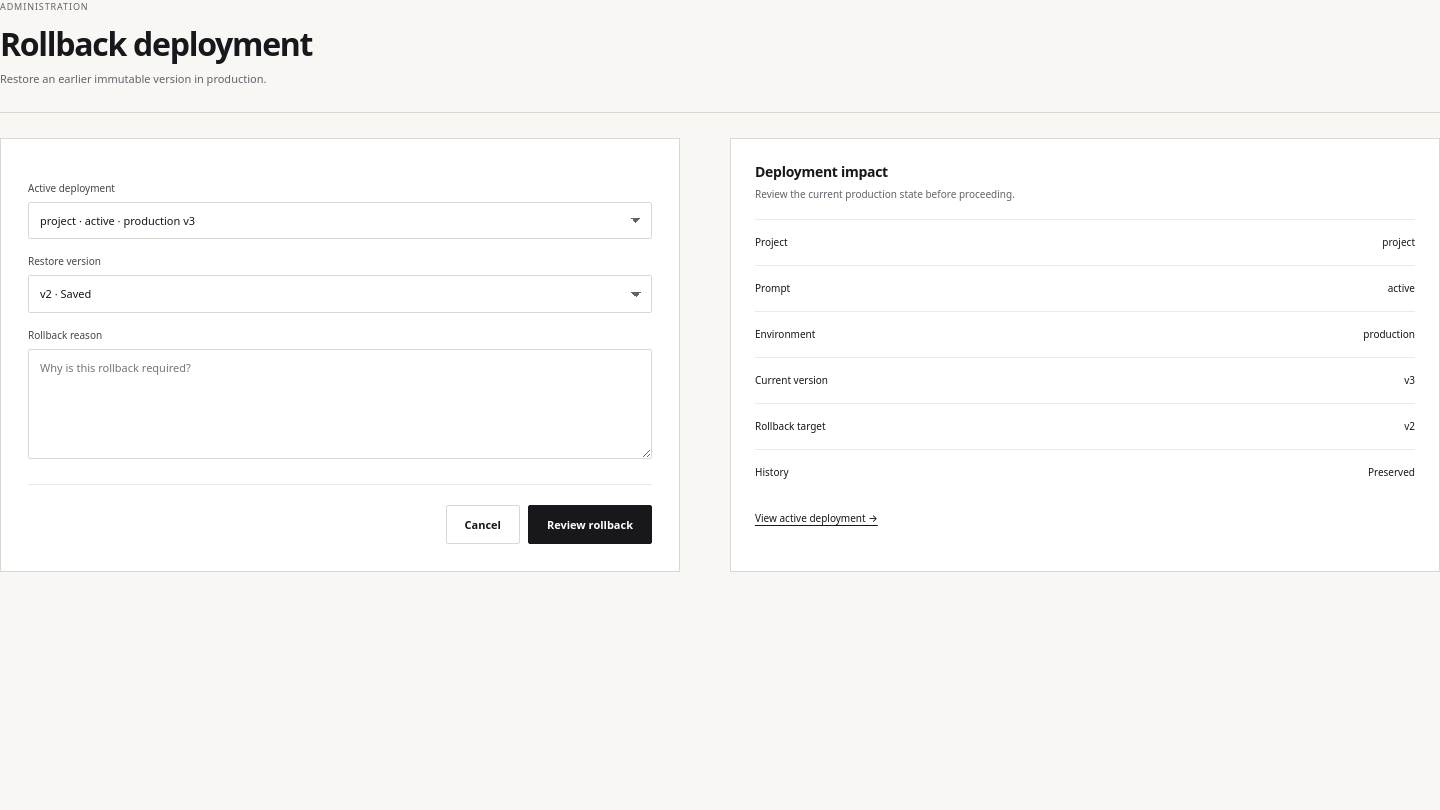
Test case: submits once and refreshes the currently active result after a successful rollback
Type "Restore stability" into the text box labelled "Rollback reason" at point(340, 404), box [28,349,652,459]
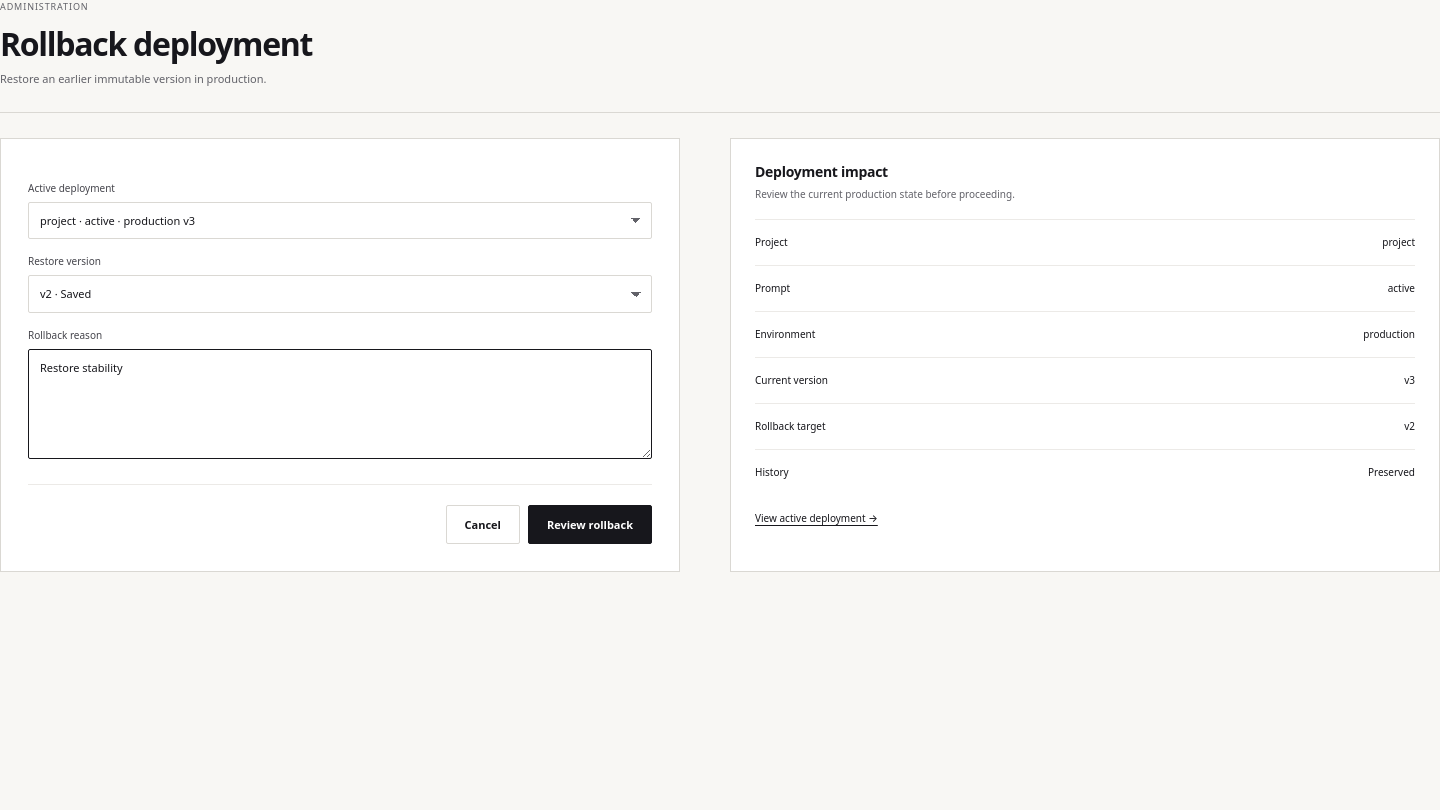
Click the button "Review rollback" at point(590, 524), box [528,505,652,544]
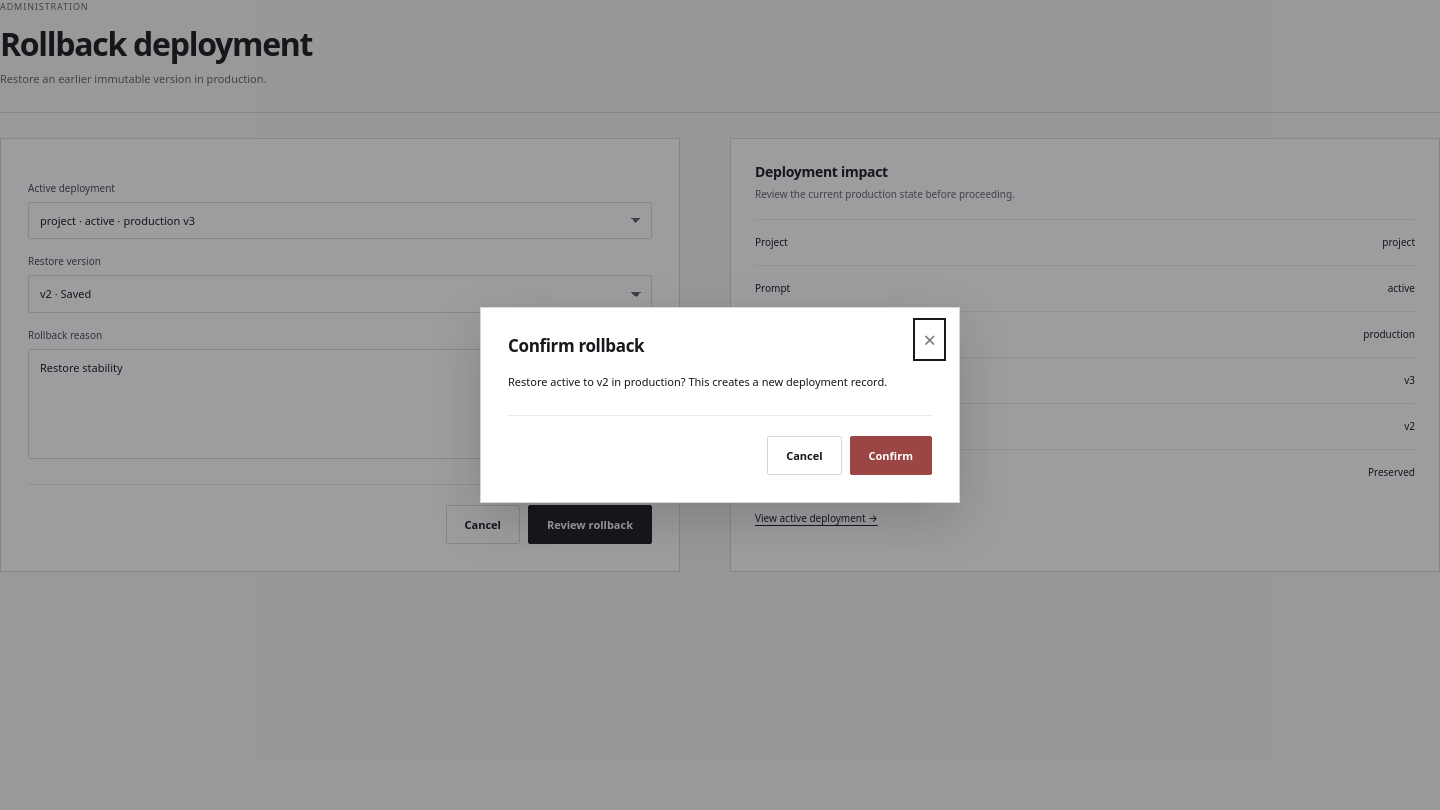
Click the button "Confirm" at point(891, 456), box [850,436,932,476]
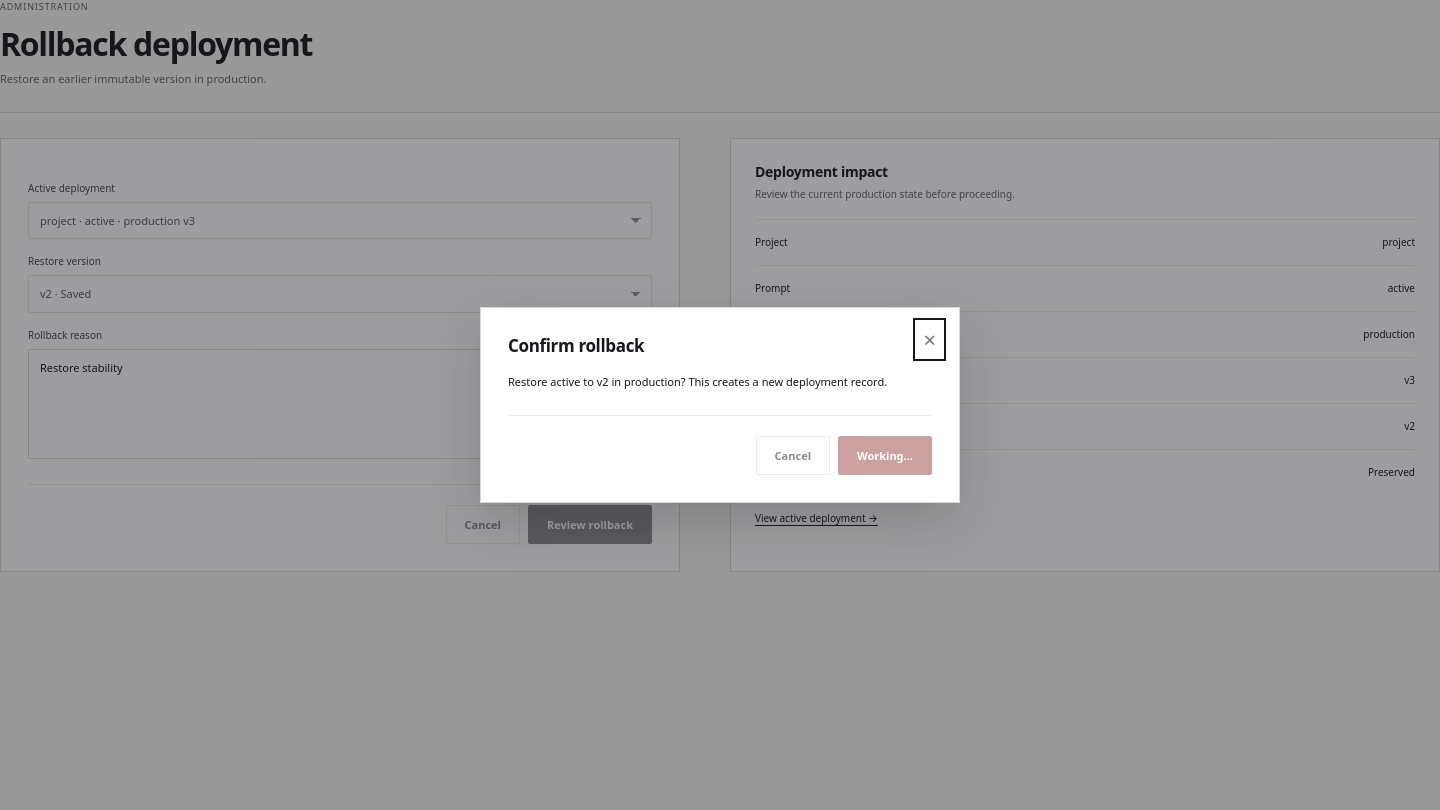
Click the button named "Confirm" at point(885, 456), box [838,436,932,476]
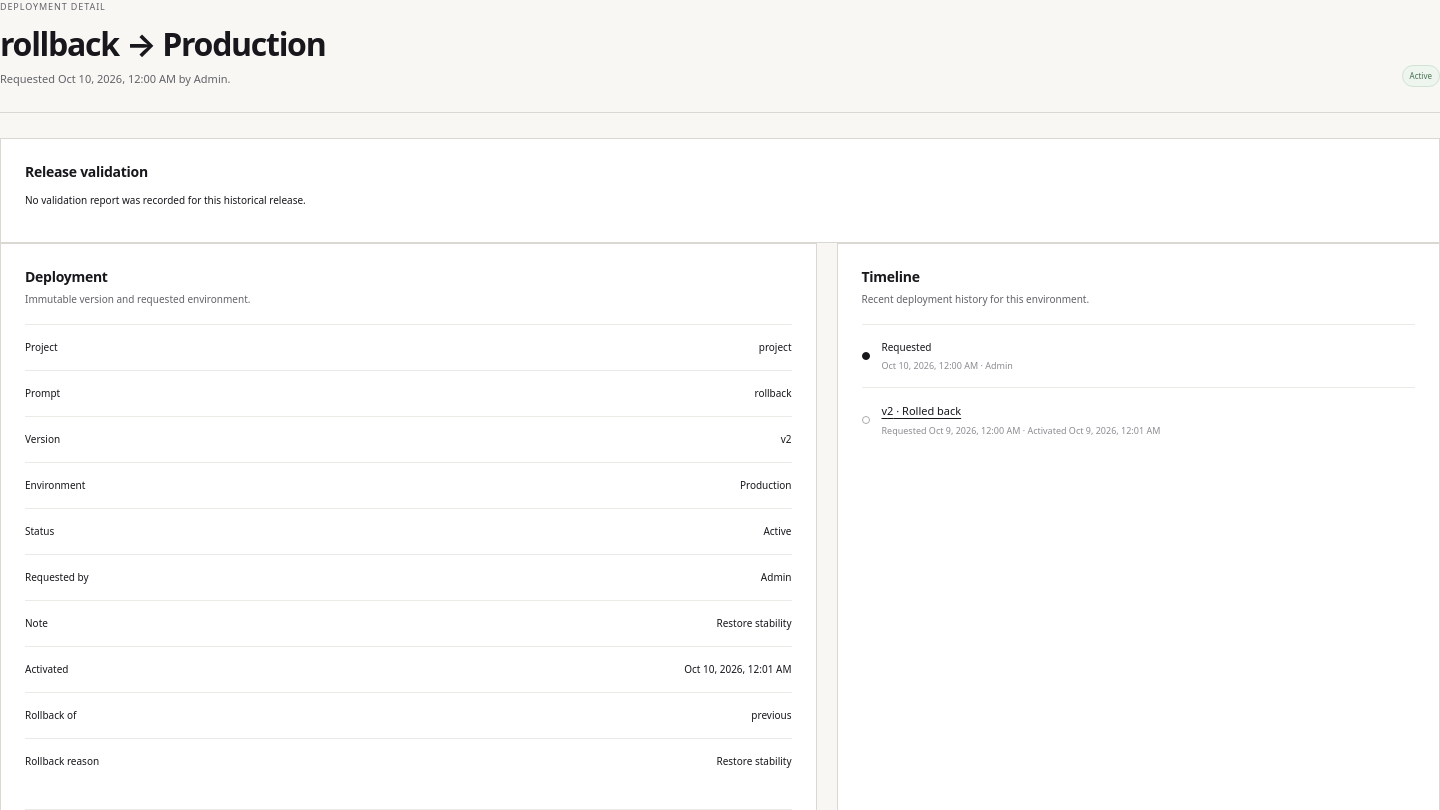
Expected: the heading "rollback → Production" is shown, [0,24,325,64]
Expected: the text "Restore stability" is shown 2 times, [716,616,792,631]; [716,754,792,769]
Expected: the link "v2 · Rolled back" is shown, [882,403,961,418]
